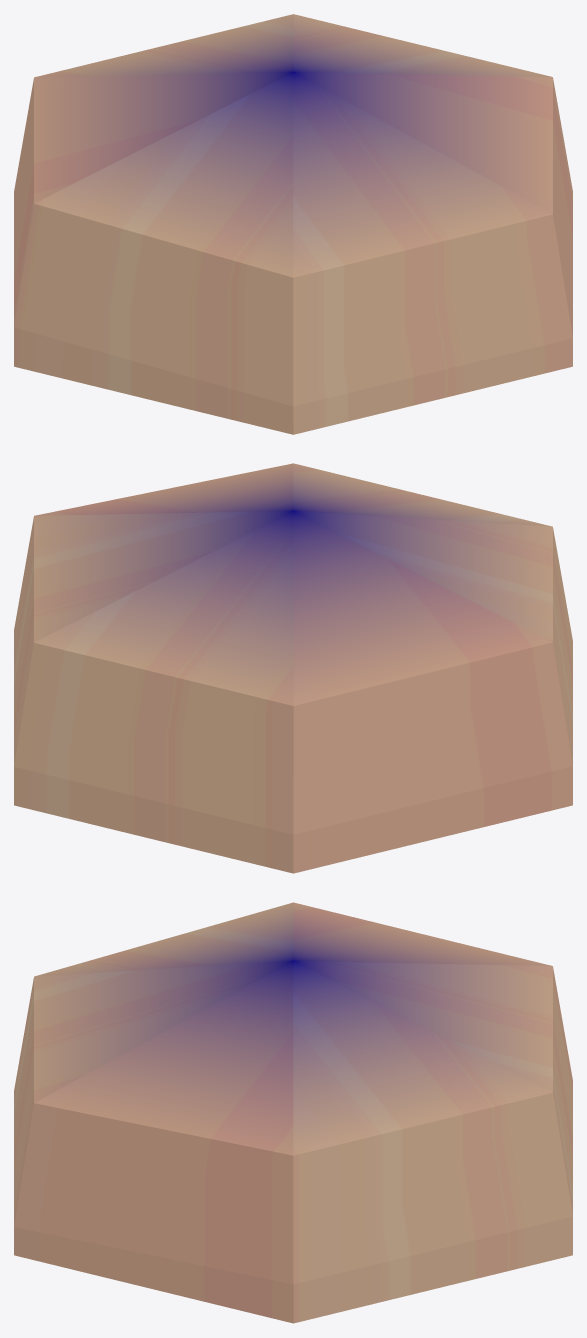
Rendered from MR_stage1_V.glb.
3 views of the same model, one above another, from view 1: azimuth 30°, elevation 25°; view 2: azimuth 150°, elevation 25°; view 3: azimuth 270°, elevation 25° (orthographic).
Visible parts, largest first — view 1: MR_stage1_V; view 2: MR_stage1_V; view 3: MR_stage1_V.
Boxes of the visible parts, box(x1,y1,x2,y2) form: MR_stage1_V: box(14, 14, 572, 434); MR_stage1_V: box(14, 463, 572, 873); MR_stage1_V: box(14, 902, 572, 1323).
Bounding box in the file's own units: 813 × 314 × 704.
Materials: 1 (1 with a texture image).
